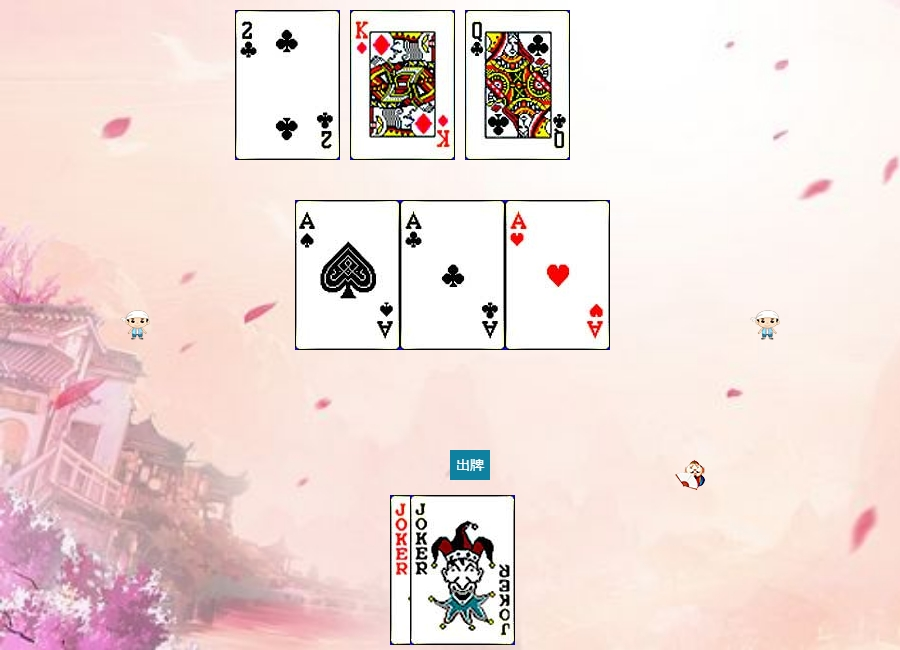12~2: (465, 10, 570, 160)
13~1: (350, 10, 455, 160)
14~2: (400, 200, 505, 350)
14~3: (505, 200, 610, 350)
14~4: (295, 200, 400, 350)
15~2: (235, 10, 340, 160)
17~3: (410, 495, 515, 645)
18~4: (390, 495, 495, 645)
